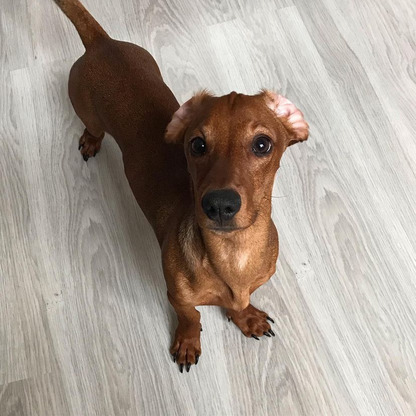dachshund: (36, 15, 327, 362)
